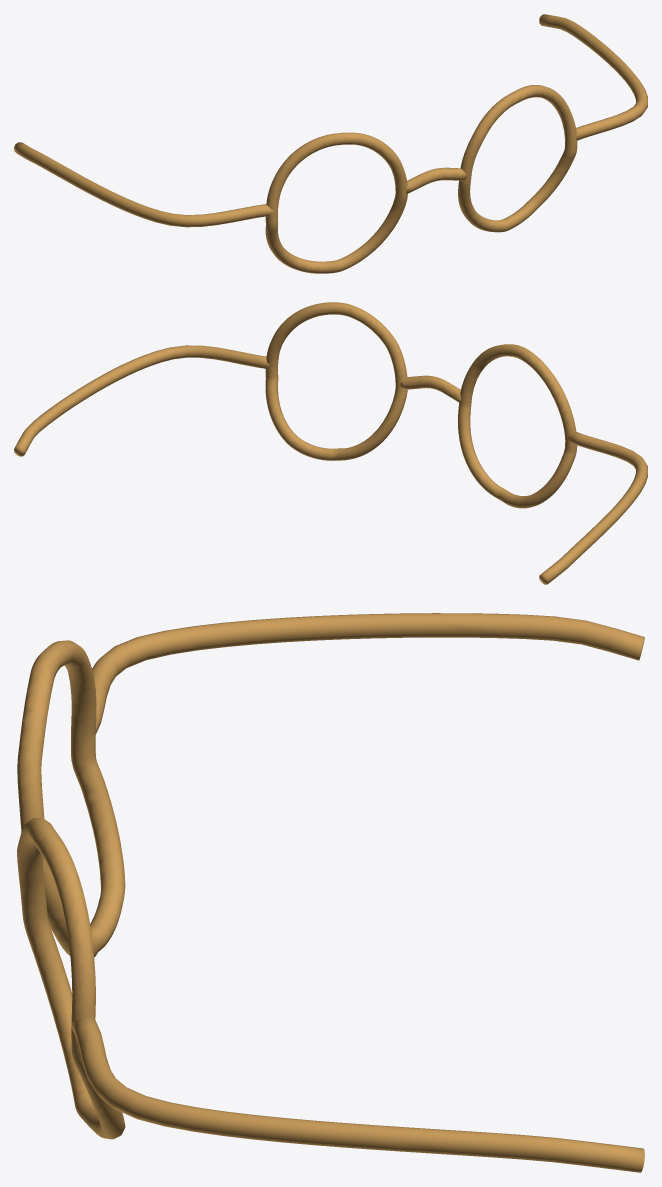
File: 2HT-feminino.glb
The picture shows the model from 3 angles, top to bottom: view 1: azimuth 30°, elevation 25°; view 2: azimuth 150°, elevation 25°; view 3: azimuth 270°, elevation 25°; orthographic projection. The views are drawn at different scales.
Parts seen in each view (by area): view 1: frame--1, frame-1, temple--1, temple-1, bridge; view 2: frame-1, frame--1, temple-1, temple--1, bridge; view 3: temple-1, temple--1, frame--1, frame-1.
Part boxes in pixels (left/top/right/bottom): frame--1: left=265, top=132, right=407, bottom=273; frame-1: left=458, top=85, right=577, bottom=232; temple--1: left=14, top=142, right=273, bottom=227; temple-1: left=539, top=14, right=647, bottom=140; bridge: left=406, top=167, right=467, bottom=193; frame-1: left=265, top=302, right=407, bottom=460; frame--1: left=458, top=344, right=577, bottom=508; temple-1: left=14, top=345, right=269, bottom=456; temple--1: left=539, top=432, right=647, bottom=584; bridge: left=400, top=375, right=460, bottom=402; temple-1: left=72, top=1017, right=644, bottom=1172; temple--1: left=92, top=613, right=644, bottom=733; frame--1: left=17, top=640, right=125, bottom=956; frame-1: left=17, top=817, right=125, bottom=1139.
Bounding box in the file's own units: 0.0767 × 0.02 × 0.0383.
